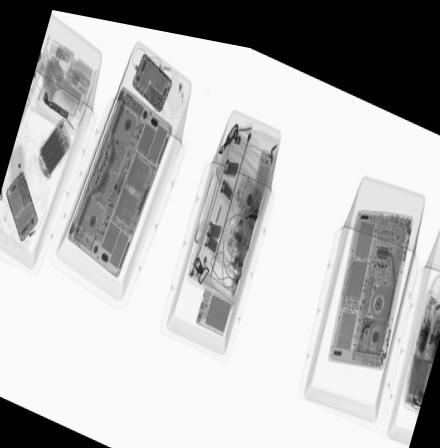Lighter: (239, 200, 257, 216)
